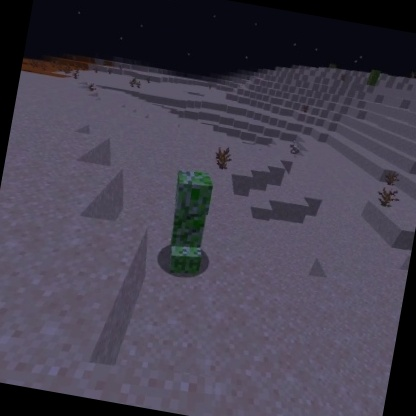creeper: (156, 165, 224, 283)
